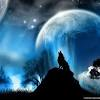Lobo: (51, 47, 77, 73)
